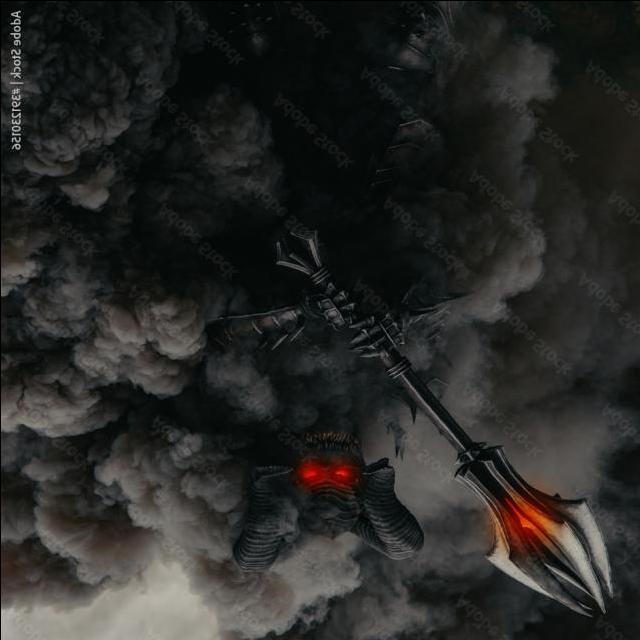mace: (277, 230, 615, 619)
